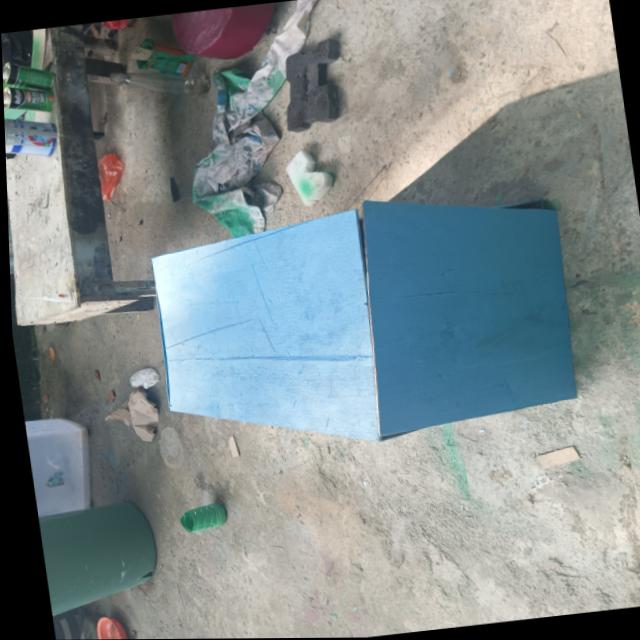blue_box: (133, 170, 596, 468)
